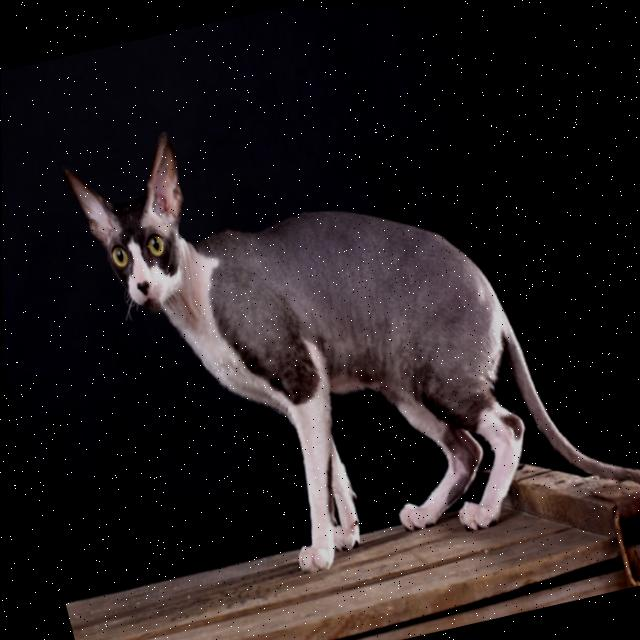Cornish Rex: (52, 18, 640, 628)
